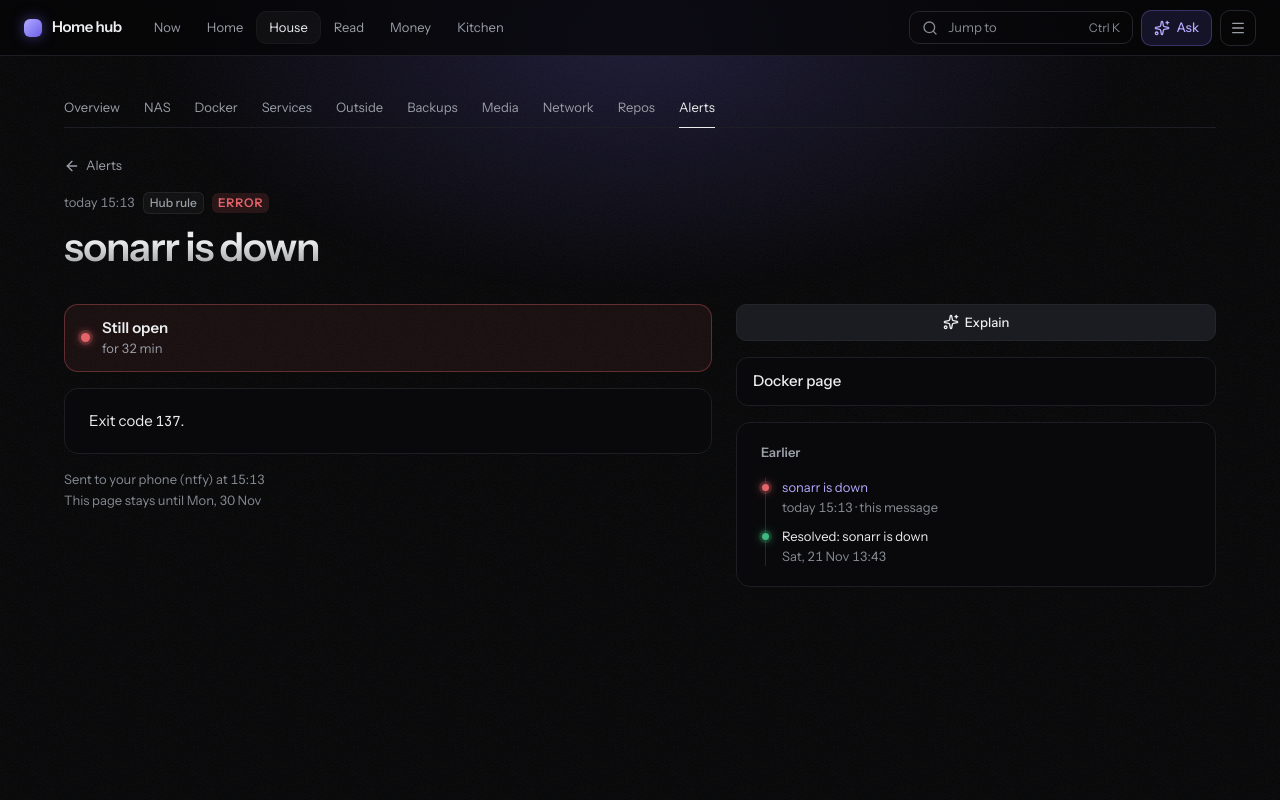
AlertMessagePage › asks Claude once and shows the answer
This screenshot has width=1280, height=800.
What coordinates should you click on to do the following:
click the button "Explain"
I would click on:
 (976, 322)
Its box is [736,304,1216,341].
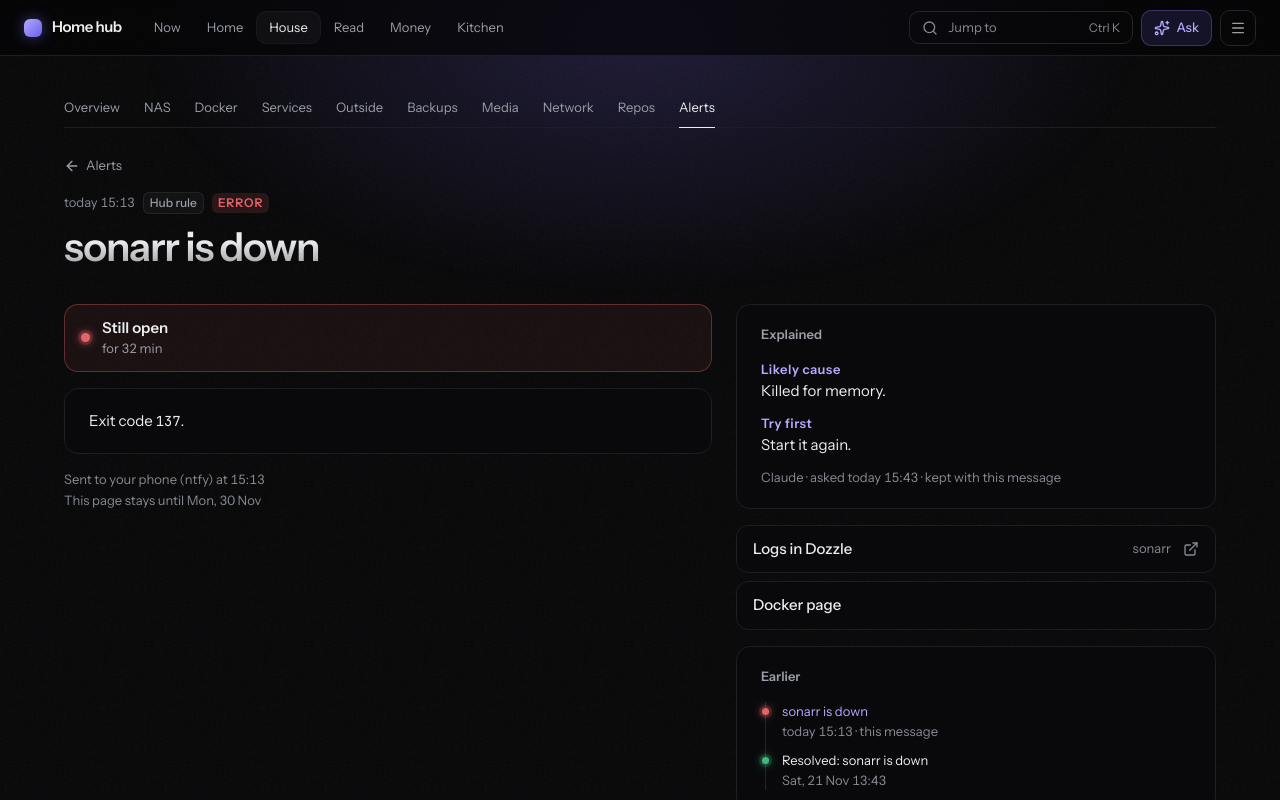
Expected: the element "Explained" shows "Killed for memory.", [761,380,886,400]
Expected: the element "Explained" shows "Start it again.", [761,434,851,454]
